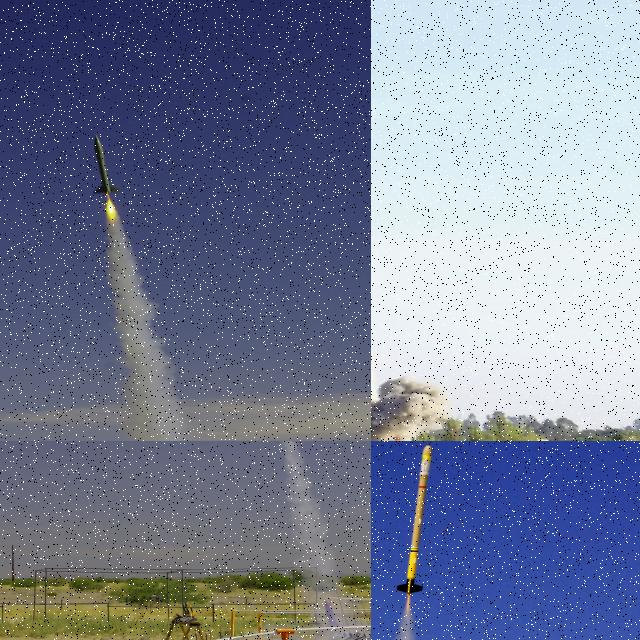Rocket: (396, 445, 436, 597), (92, 133, 121, 194), (324, 602, 342, 630), (180, 603, 188, 617), (190, 604, 197, 617), (184, 602, 191, 614)
